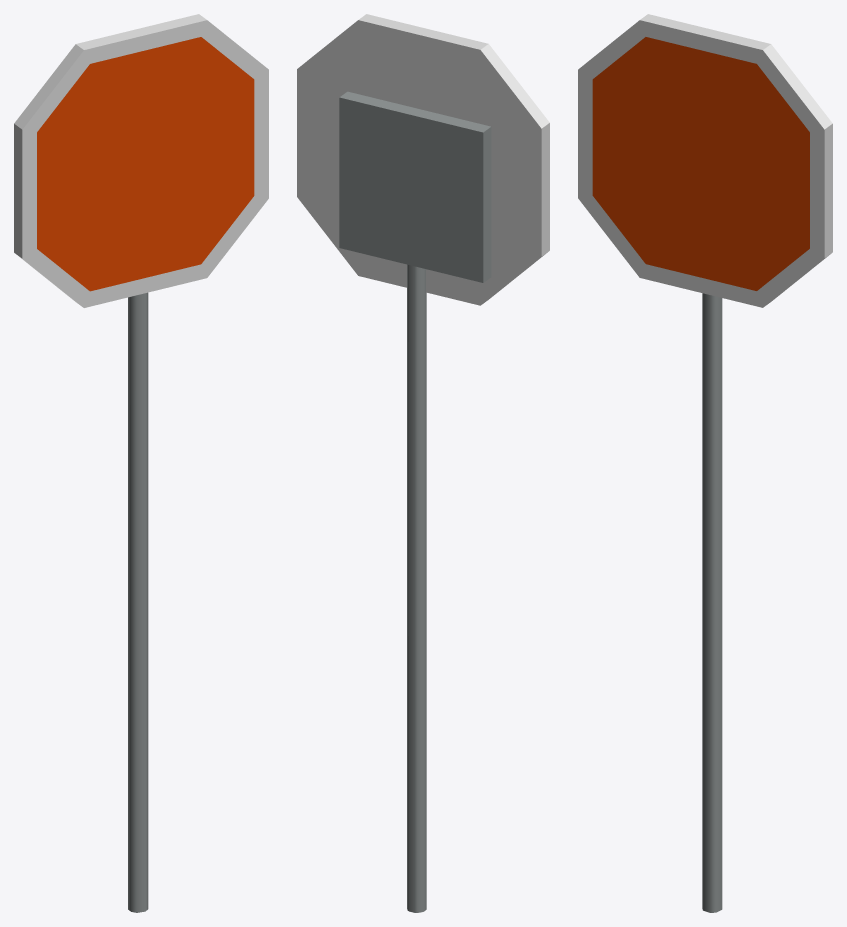
File: STOP_SIGN_SEGMENTED.fbx
3 views of the same model, side by side, from view 1: azimuth 30°, elevation 25°; view 2: azimuth 150°, elevation 25°; view 3: azimuth 330°, elevation 25° (orthographic).
Visible parts, largest first — view 1: polySurface12, polySurface11; view 2: polySurface12, polySurface9, polySurface11; view 3: polySurface12, polySurface11.
Part boxes in pixels (x1,y1,x2,y2): polySurface12: (14, 14, 268, 307); polySurface11: (128, 292, 148, 912); polySurface12: (297, 14, 549, 305); polySurface9: (339, 91, 491, 282); polySurface11: (407, 264, 426, 912); polySurface12: (578, 14, 832, 307); polySurface11: (702, 293, 722, 912).
Size of the model in its own units: 20.31 by 69.34 by 2.36.
